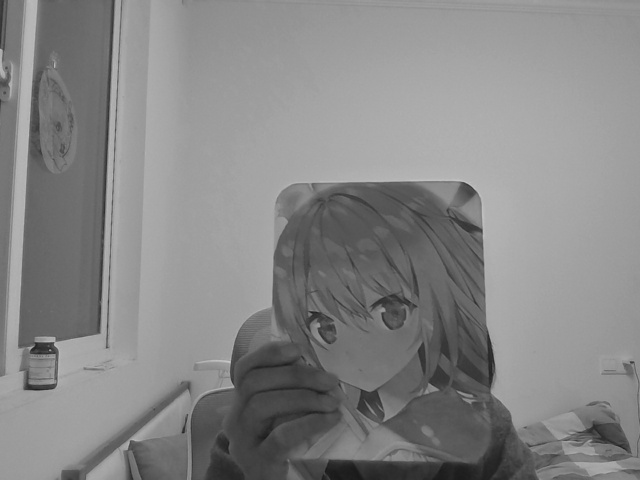face: (289, 237, 427, 394)
